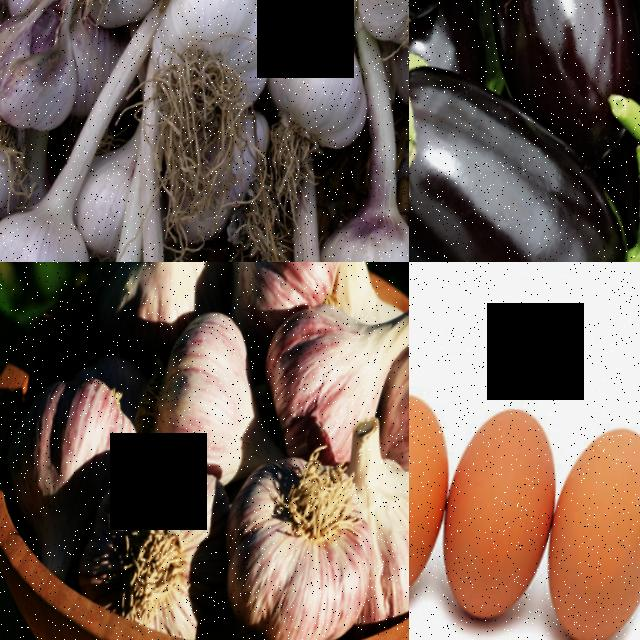egg_: (416, 393, 575, 640), (518, 415, 640, 640), (409, 380, 469, 631)
eggplant: (409, 33, 640, 262), (424, 0, 640, 127)
garlic: (197, 447, 384, 640), (79, 445, 223, 638), (243, 294, 383, 481), (133, 298, 266, 482), (248, 16, 379, 158), (138, 0, 285, 116), (76, 262, 214, 369), (202, 262, 351, 326), (0, 179, 97, 262), (303, 201, 409, 262), (373, 340, 409, 494), (73, 0, 177, 44)
